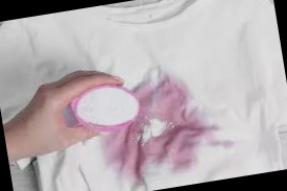ink: (150, 127, 207, 172), (138, 79, 193, 118), (105, 135, 144, 186)
